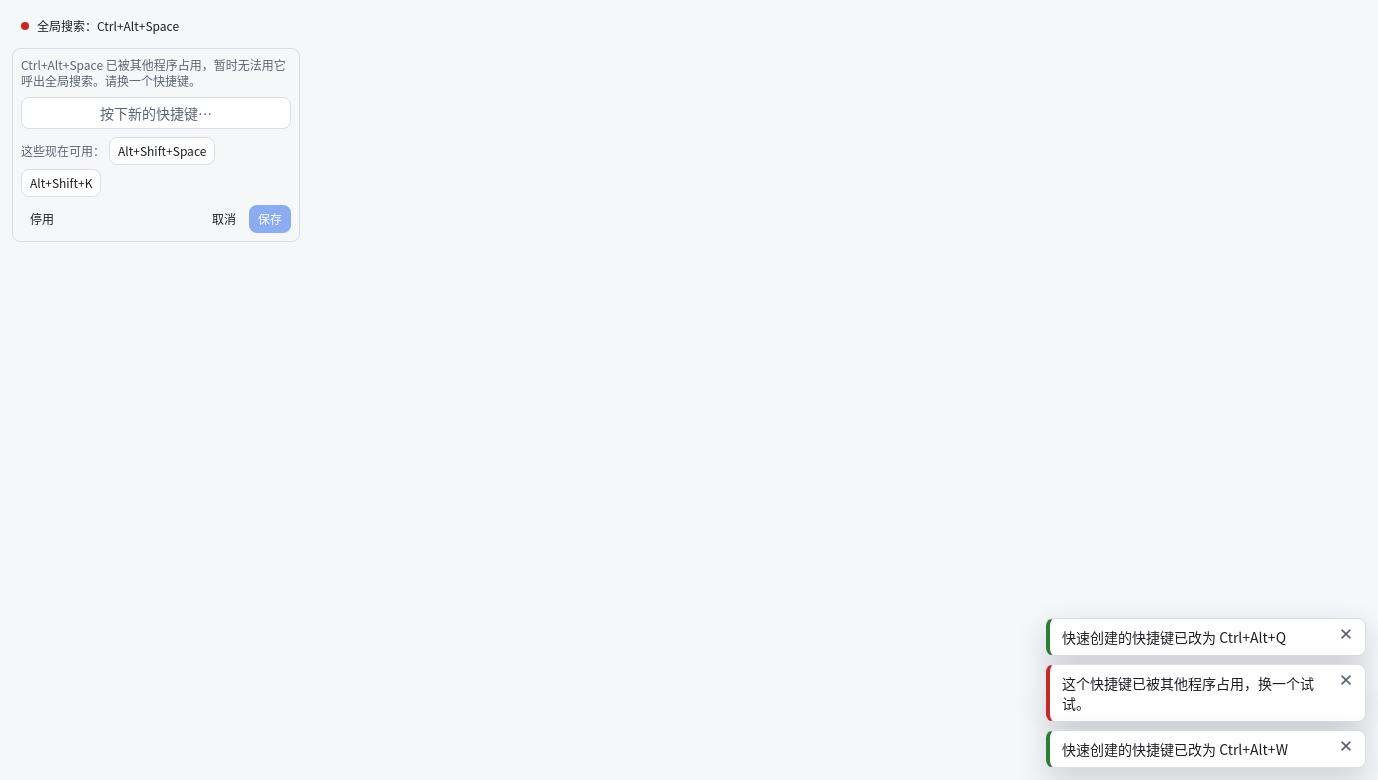
Test: ShortcutSetting › 被占用时列出现在可用的组合，点一下就换成它（跳过被占用的与另一个动作正在用的）
The width and height of the screenshot is (1378, 780).
Expected: the text "这些现在可用：" is shown, [21,143,105,159]
Click the button with aria-label "改用 Alt+Shift+Space" at (162, 151), box [109,137,215,165]
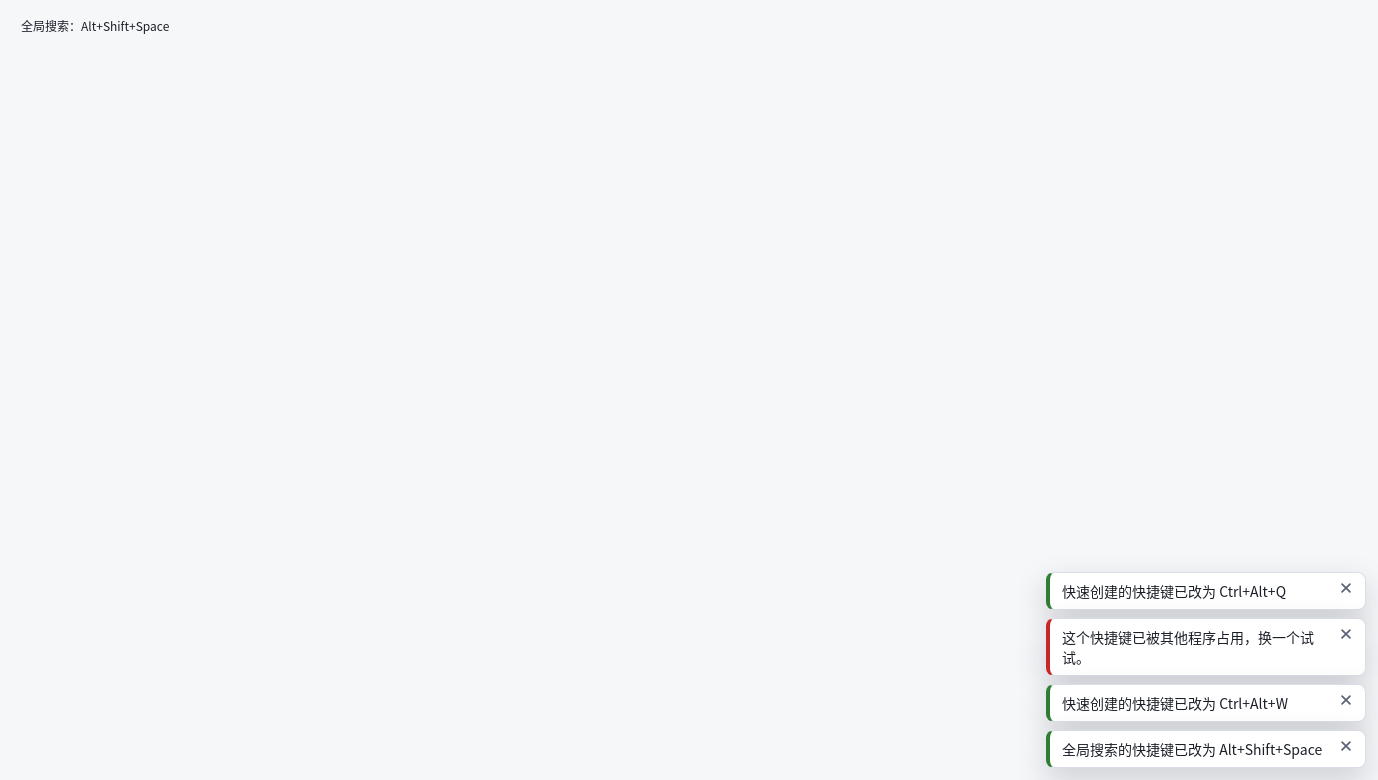
Now the button "全局搜索：Alt+Shift+Space" is shown, box [12,12,300,40]
